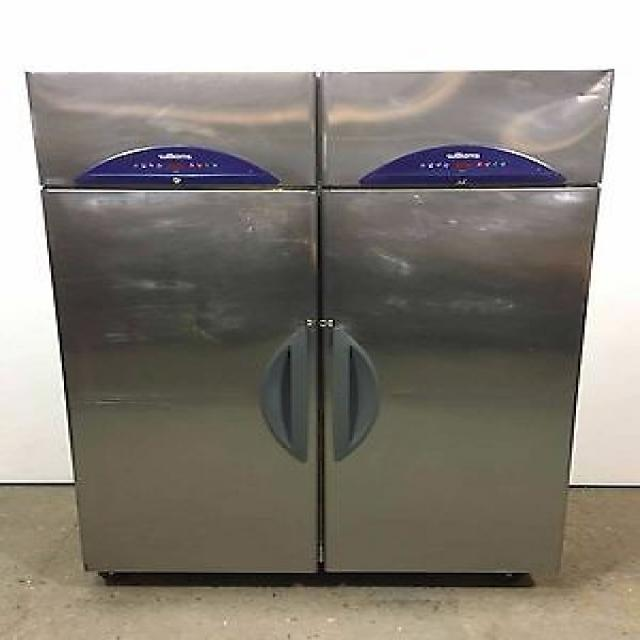refrigerator: (24, 68, 619, 577)
